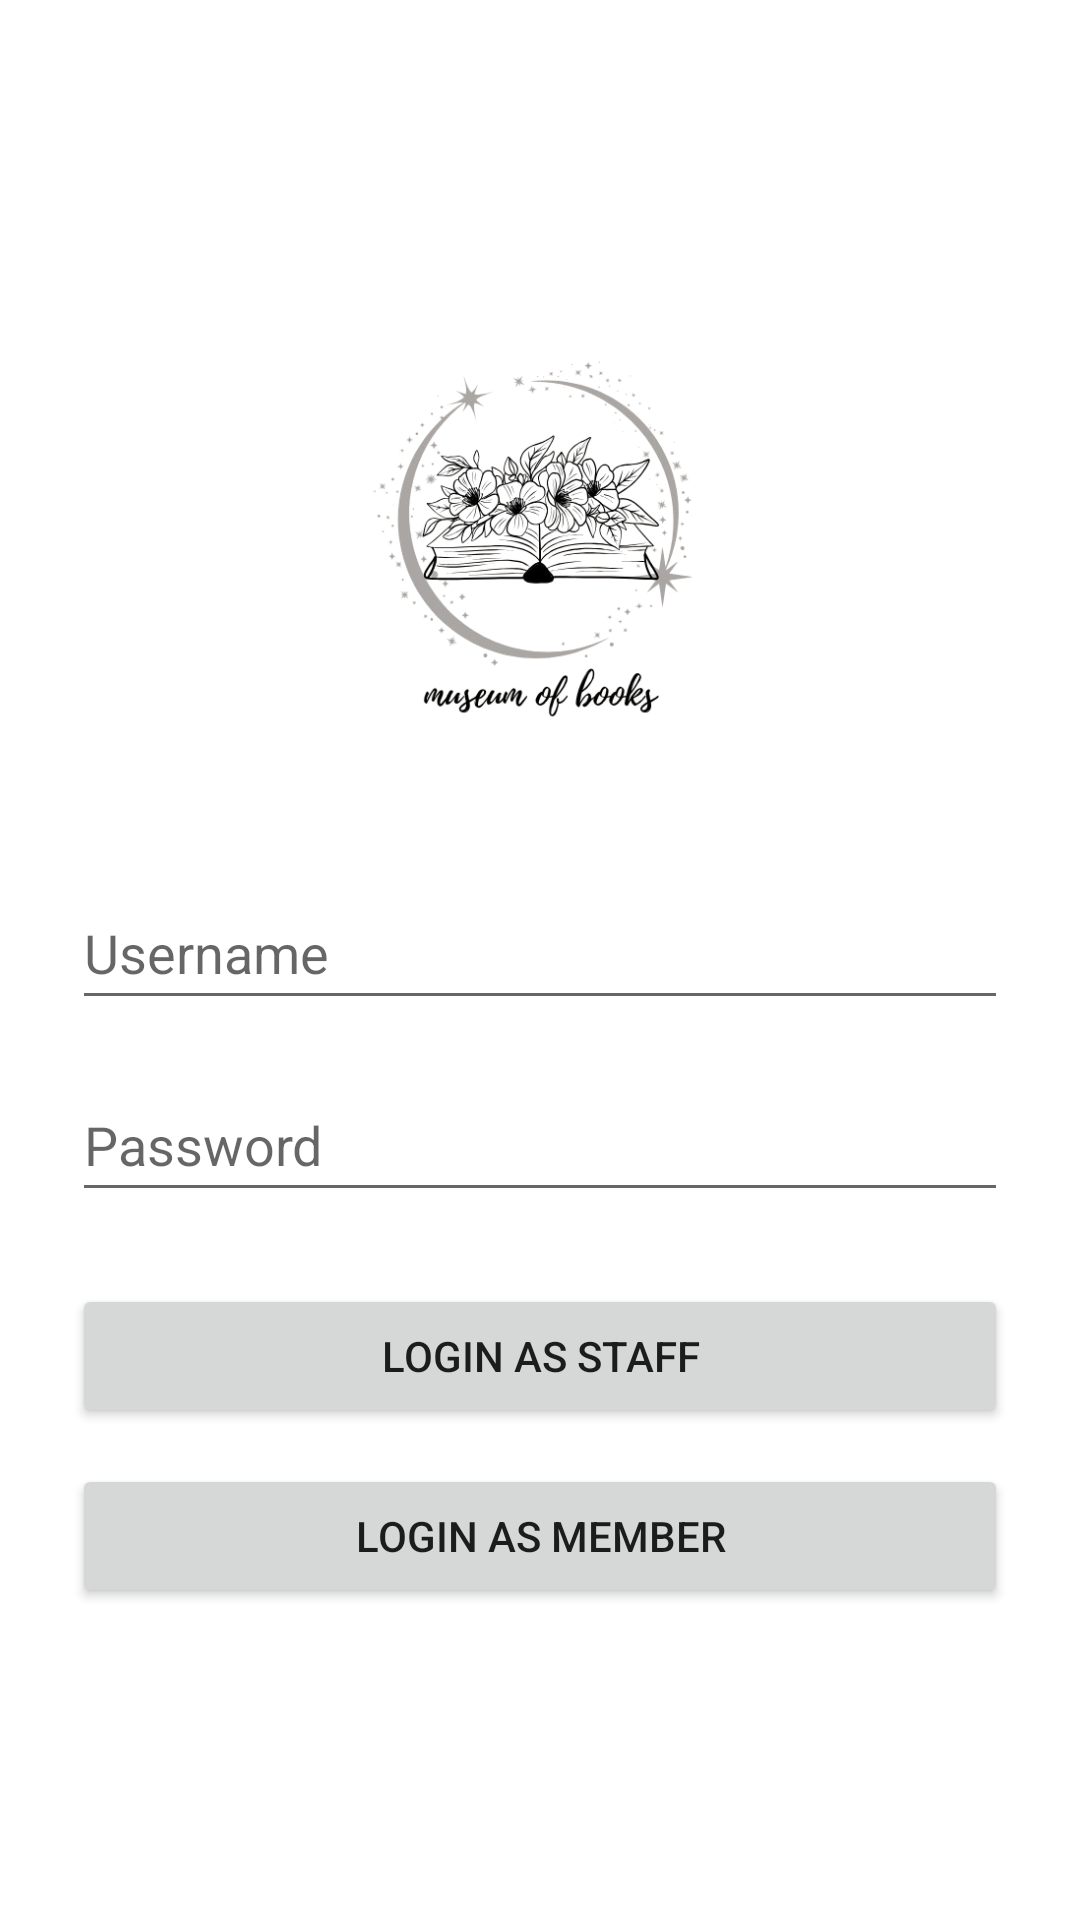

Icons on this 1080w x 1920h Android screen, each with its box as (x1, y1, x2, y2):
library: (374, 362, 692, 717)
